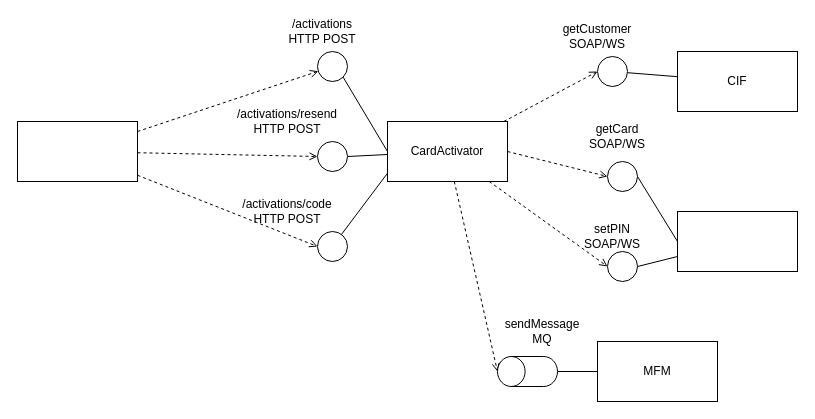
This 815x419 diagram has some shape labels left out. Here are the shapes that lost their labels. From the top down, the centre of each, then its label:
At (77,151): "Site".
At (737,241): "CardSystem".
